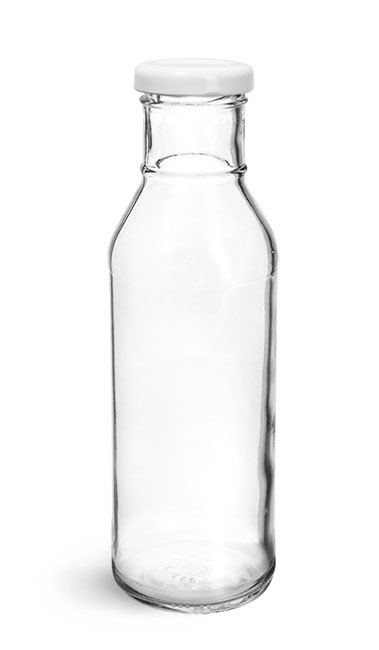container: (94, 48, 302, 623)
